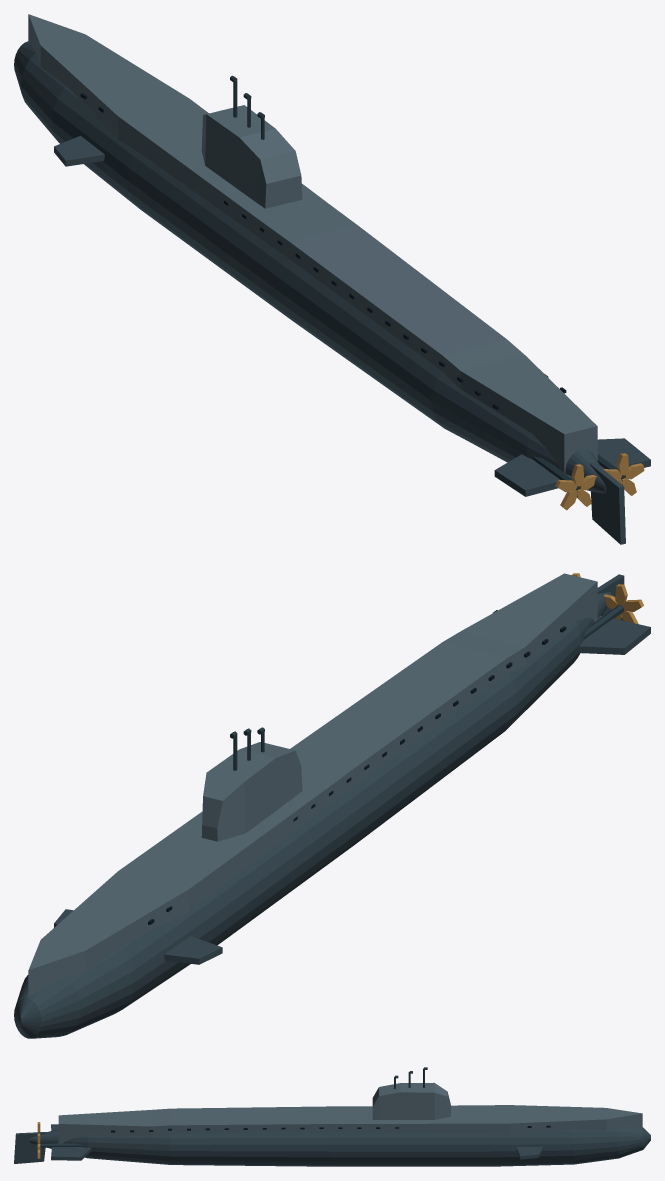
The model's file is archive-nautilus.glb.
3 views of the same model, one above another, from view 1: azimuth 30°, elevation 25°; view 2: azimuth 150°, elevation 25°; view 3: azimuth 270°, elevation 25° (orthographic). The views are drawn at different scales.
Parts seen in each view (by area): view 1: archive-nautilus-cruise_deck.003-geometry, archive-nautilus-pressure_hull.003-geometry, archive-nautilus-submarine_sail.003-geometry, archive-nautilus-steering_rudder_0.002-geometry, archive-nautilus-stern_plane_-1.003-geometry, archive-nautilus-screw_0.003-geometry, archive-nautilus-diving_plane_-1.003-geometry, archive-nautilus-stern_plane_1.003-geometry, archive-nautilus-screw_1.003-geometry; view 2: archive-nautilus-cruise_deck.003-geometry, archive-nautilus-pressure_hull.003-geometry, archive-nautilus-submarine_sail.003-geometry, archive-nautilus-stern_plane_-1.003-geometry, archive-nautilus-screw_0.003-geometry, archive-nautilus-diving_plane_-1.003-geometry; view 3: archive-nautilus-pressure_hull.003-geometry, archive-nautilus-cruise_deck.003-geometry, archive-nautilus-submarine_sail.003-geometry, archive-nautilus-steering_rudder_0.002-geometry, archive-nautilus-stern_plane_1.003-geometry, archive-nautilus-diving_plane_1.003-geometry, archive-nautilus-screw_1.003-geometry, archive-nautilus-archive-nautilus-geometry.
Part boxes in pixels (<box>): archive-nautilus-cruise_deck.003-geometry: <box>28,14,597,473</box>; archive-nautilus-pressure_hull.003-geometry: <box>14,41,605,493</box>; archive-nautilus-submarine_sail.003-geometry: <box>201,75,302,208</box>; archive-nautilus-steering_rudder_0.002-geometry: <box>589,462,625,544</box>; archive-nautilus-stern_plane_-1.003-geometry: <box>494,454,572,496</box>; archive-nautilus-screw_0.003-geometry: <box>532,456,596,510</box>; archive-nautilus-diving_plane_-1.003-geometry: <box>54,135,104,166</box>; archive-nautilus-stern_plane_1.003-geometry: <box>597,438,650,468</box>; archive-nautilus-screw_1.003-geometry: <box>597,453,644,495</box>; archive-nautilus-cruise_deck.003-geometry: <box>28,573,597,997</box>; archive-nautilus-pressure_hull.003-geometry: <box>14,592,611,1038</box>; archive-nautilus-submarine_sail.003-geometry: <box>201,727,302,841</box>; archive-nautilus-stern_plane_-1.003-geometry: <box>577,615,650,654</box>; archive-nautilus-screw_0.003-geometry: <box>583,584,643,639</box>; archive-nautilus-diving_plane_-1.003-geometry: <box>164,936,222,964</box>; archive-nautilus-pressure_hull.003-geometry: <box>30,1127,650,1166</box>; archive-nautilus-cruise_deck.003-geometry: <box>58,1105,642,1143</box>; archive-nautilus-submarine_sail.003-geometry: <box>372,1067,450,1119</box>; archive-nautilus-steering_rudder_0.002-geometry: <box>14,1132,47,1163</box>; archive-nautilus-stern_plane_1.003-geometry: <box>51,1147,91,1160</box>; archive-nautilus-diving_plane_1.003-geometry: <box>516,1146,543,1159</box>; archive-nautilus-screw_1.003-geometry: <box>37,1133,82,1158</box>; archive-nautilus-archive-nautilus-geometry: <box>111,1125,550,1132</box>.
Bounding box in the file's own units: 1.49 × 1.67 × 9.95.
